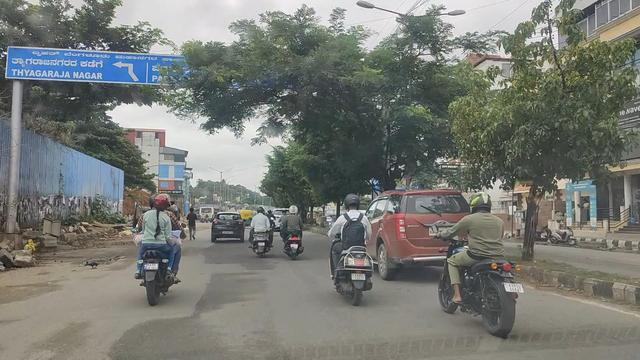LMV: (446, 189, 513, 322), (144, 191, 182, 297), (336, 200, 371, 300), (283, 199, 309, 263), (253, 202, 270, 263), (208, 213, 241, 240)
RoadDamages: (113, 313, 238, 360), (28, 310, 97, 360), (0, 279, 66, 314), (203, 277, 259, 315)
